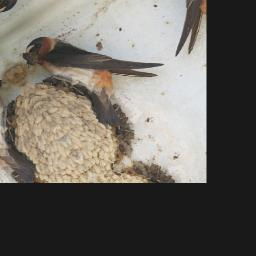Swallow: (18, 0, 170, 131)
